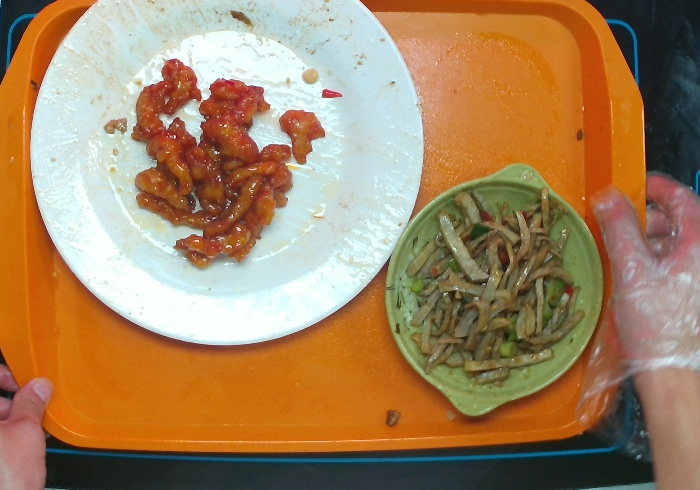NLDX-Da_Yuan_Pan: (28, 1, 426, 348)
NLDX-Lv_Hua_Shuang_Er_Die: (383, 161, 605, 418)
